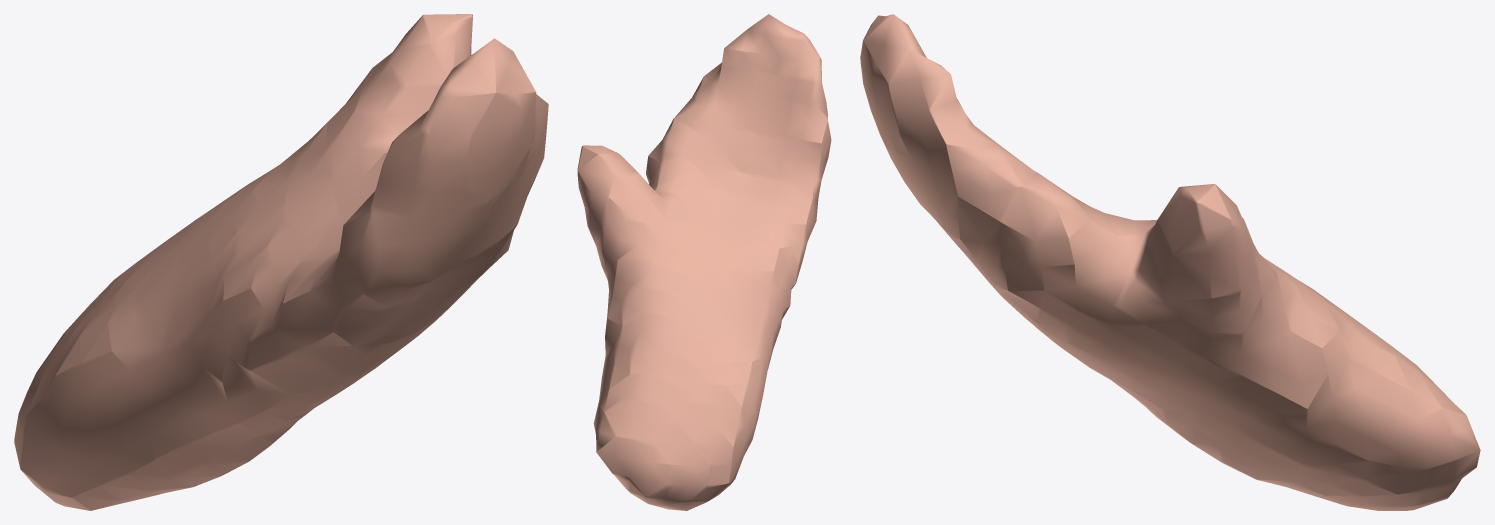
File: left-hand.obj
3 views of the same model, side by side, from view 1: azimuth 30°, elevation 25°; view 2: azimuth 150°, elevation 25°; view 3: azimuth 270°, elevation 25° (orthographic). The views are drawn at different scales.
Visible parts, largest first — view 1: Layer_1; view 2: Layer_1; view 3: Layer_1.
Boxes of the visible parts, x1,y1,x2,y2 form: Layer_1: (14,14,548,510); Layer_1: (577,14,831,510); Layer_1: (860,14,1480,510).
Size of the model in its own units: 11.28 by 19.04 by 19.39.
Materials: 1 (1 with a texture image).
